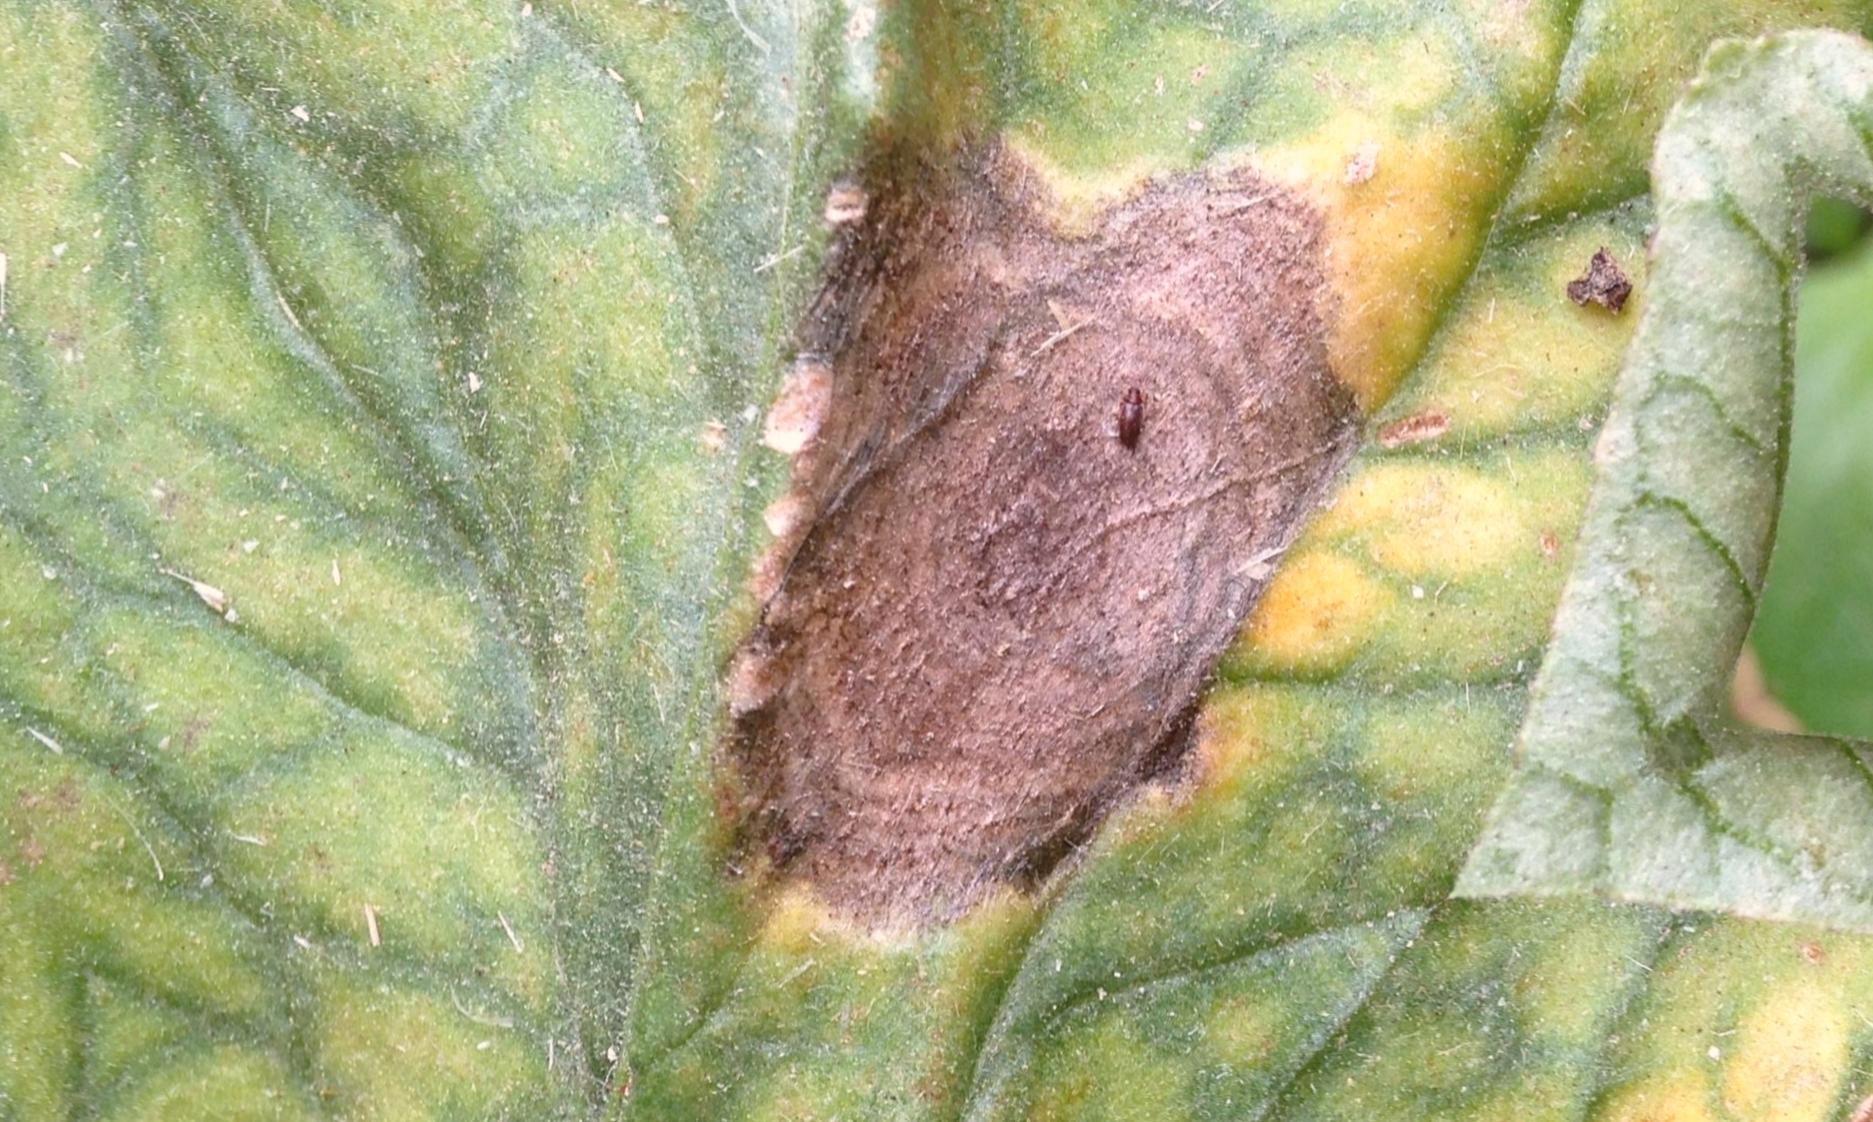Tomato Early blight leaf: (108, 0, 1695, 1122)
